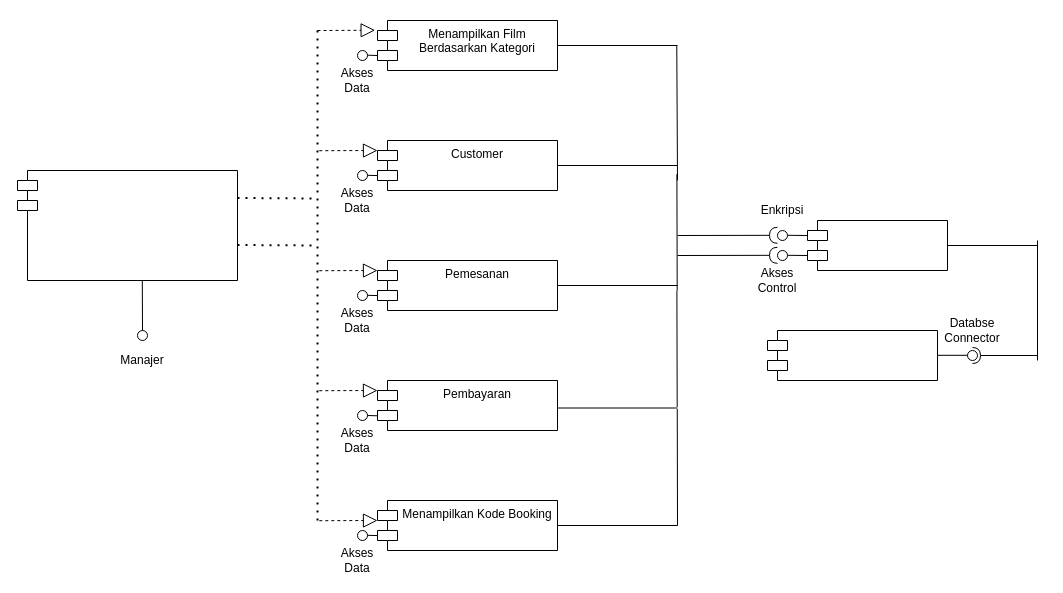
This 1063x593 diagram has some shape labels left out. Each missing label, with the centre of its shape:
"Database" goes at [852,355].
"Keamanan" goes at [877,245].
"Sistem Pemesanan Tiket Bioskop" goes at [127,225].
